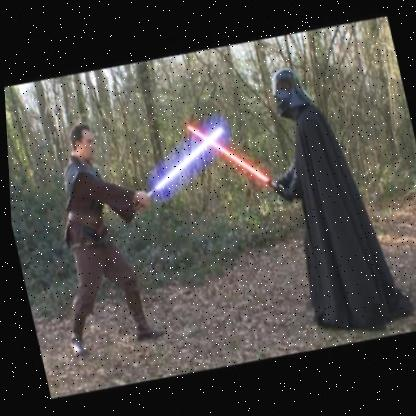lightsaber: (137, 123, 237, 197)
person: (247, 55, 416, 341), (21, 115, 169, 356)
sith_lightsaber: (186, 112, 271, 194)
